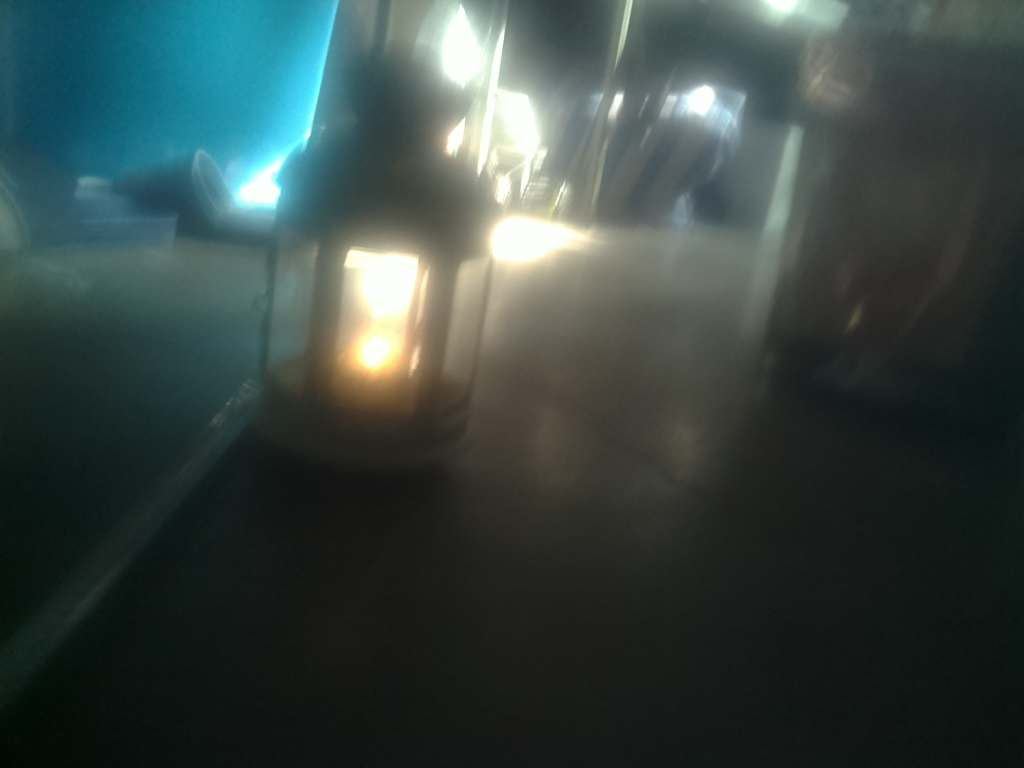fire: (326, 291, 423, 397)
